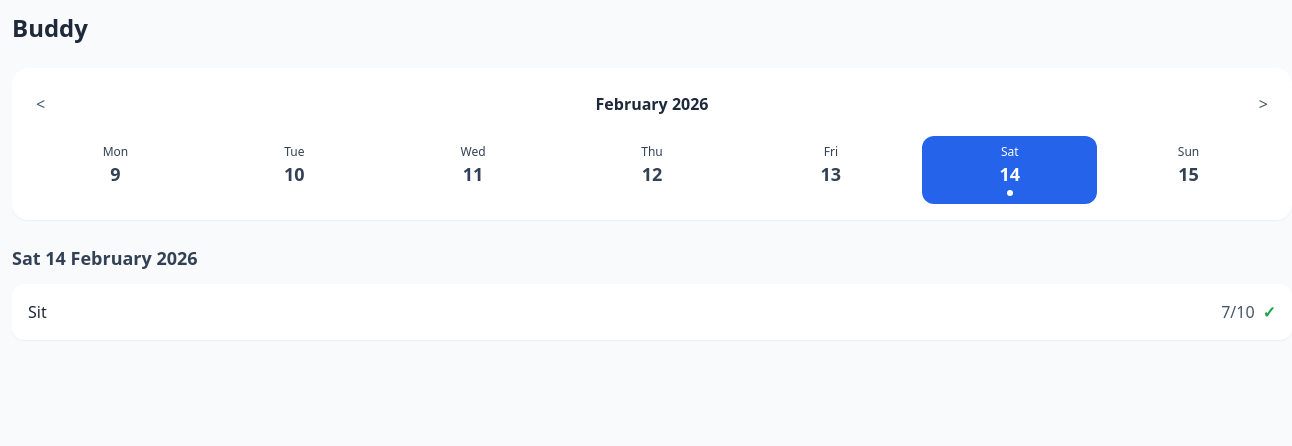
it: Progress › clicking expanded card collapses it
This screenshot has width=1292, height=446.
Click the text "Sit" at (37, 312), box [28, 300, 47, 324]
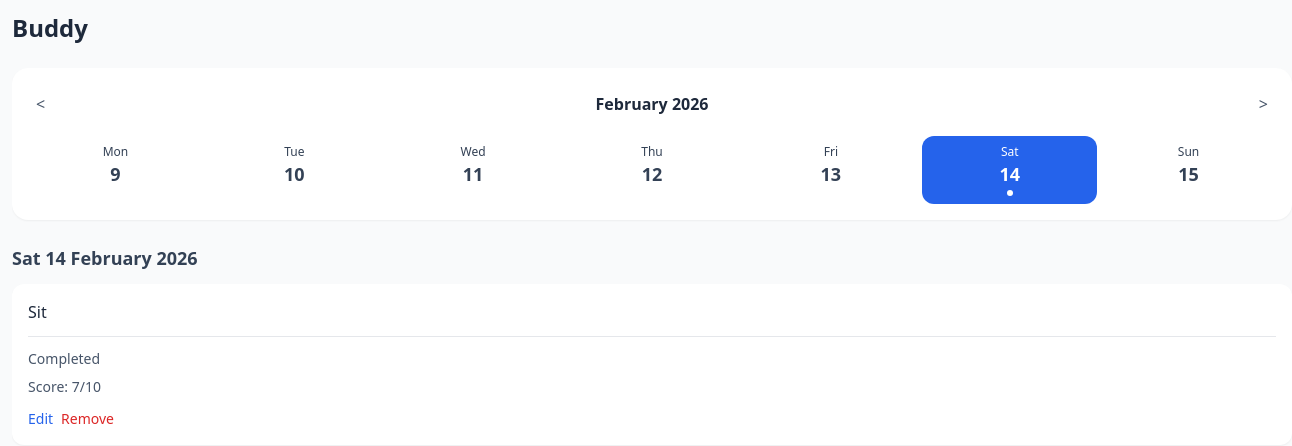
Now the button "Edit" is shown, box [28, 409, 53, 429]
Click the text "Sit" at (37, 312), box [28, 300, 47, 324]
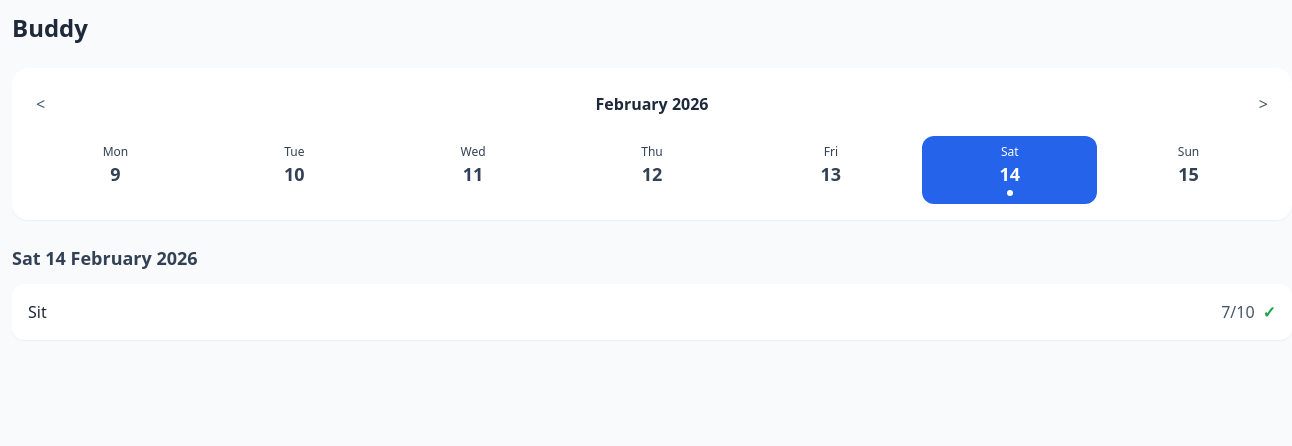
Now the button "Edit" is gone
Now the button "Remove" is gone
